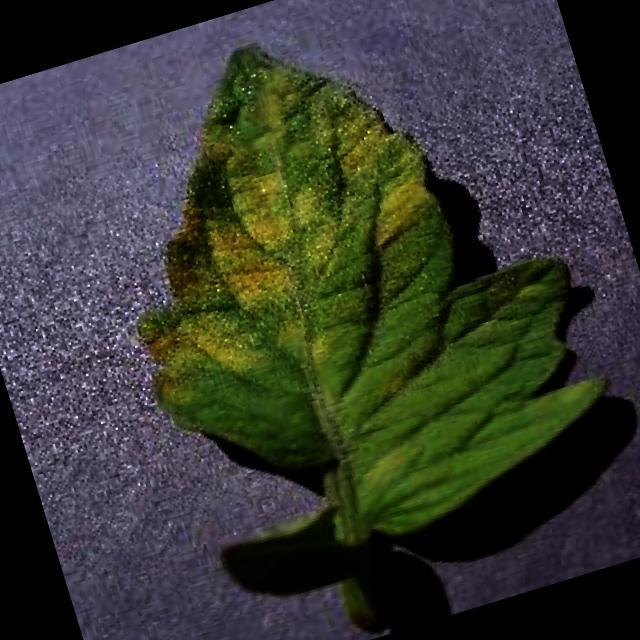Tomato mold leaf: (63, 0, 629, 589)
